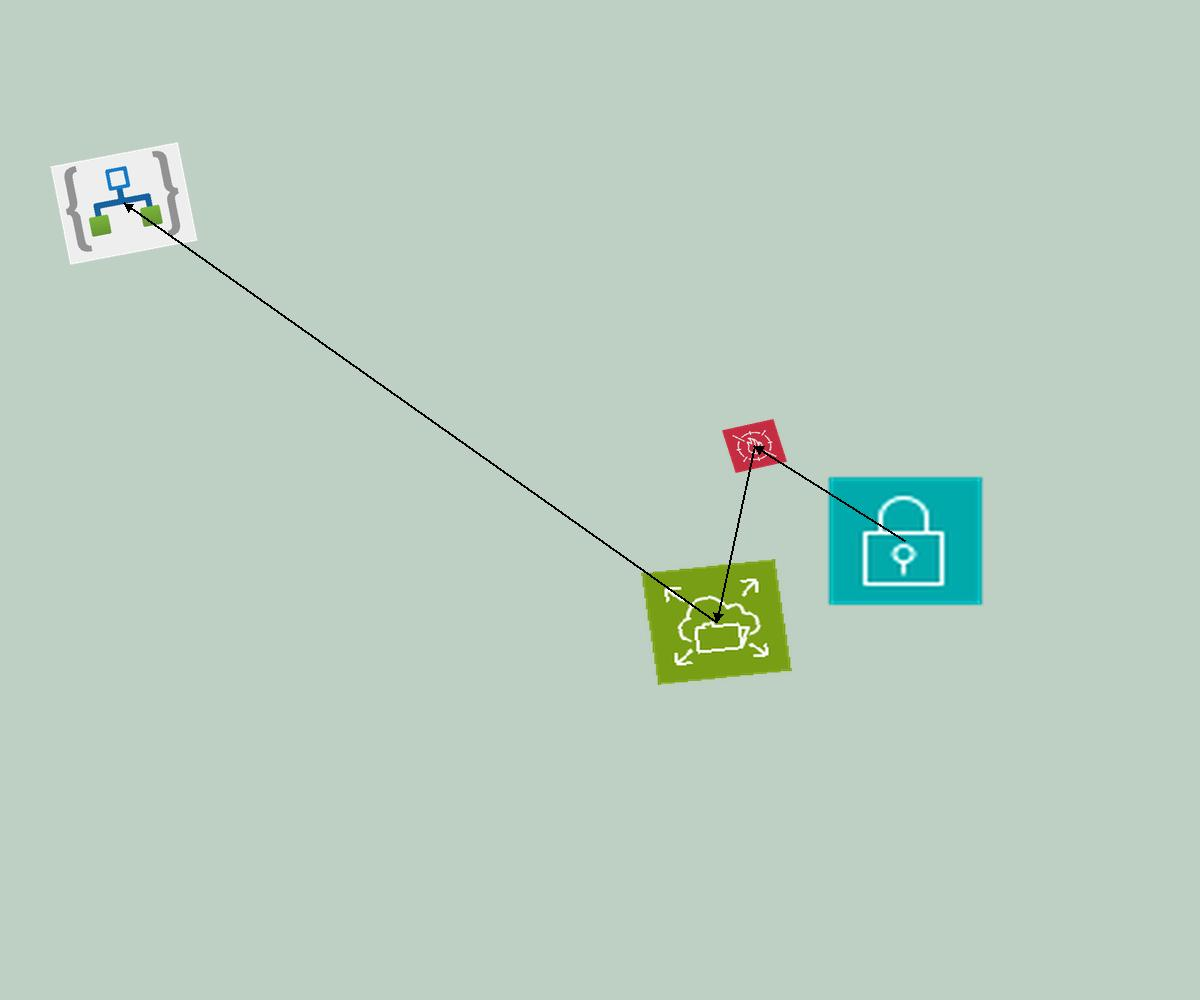AWS-EFS: (641, 559, 792, 685)
AWS-Private-subnet: (825, 474, 986, 608)
AWS-WAF: (722, 419, 787, 473)
Azure_integration-204-Logic-Apps: (50, 142, 198, 265)
